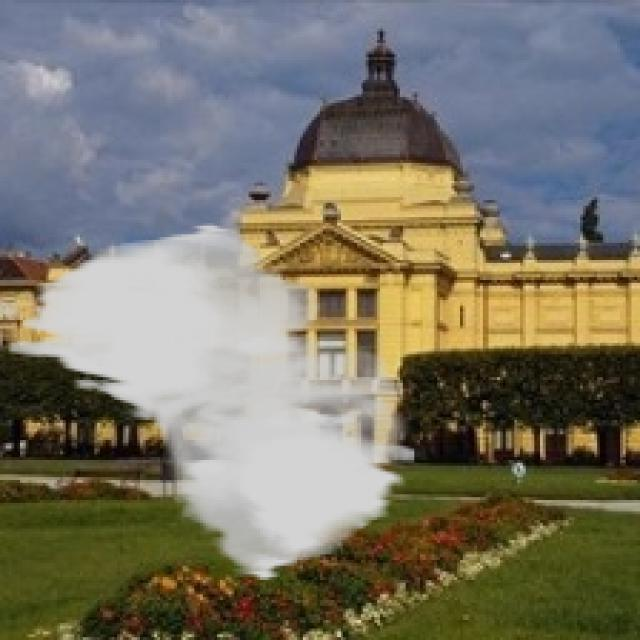smoke: (9, 223, 417, 583)
